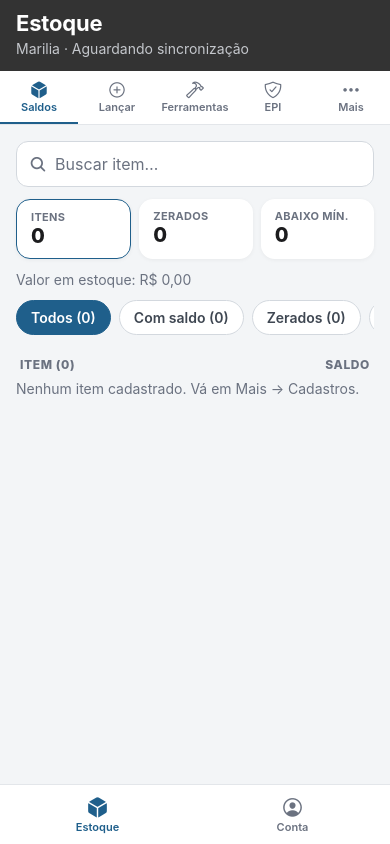
Test: Equipamentos › cancela uma movimentação com motivo e a peça volta
Click the element with test id "aba-equipamentos". click: (195, 98)
box: [156,71,234,124]
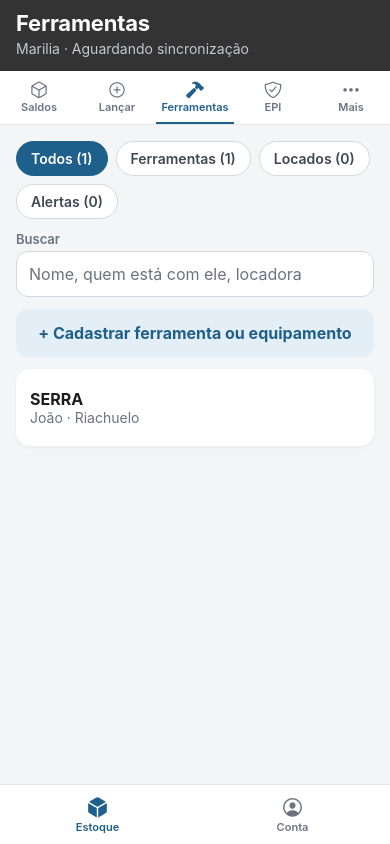
Click the element showing "SERRA João · Riachuelo". click: (195, 408)
box: [16,369,374,446]
(page scrolled)
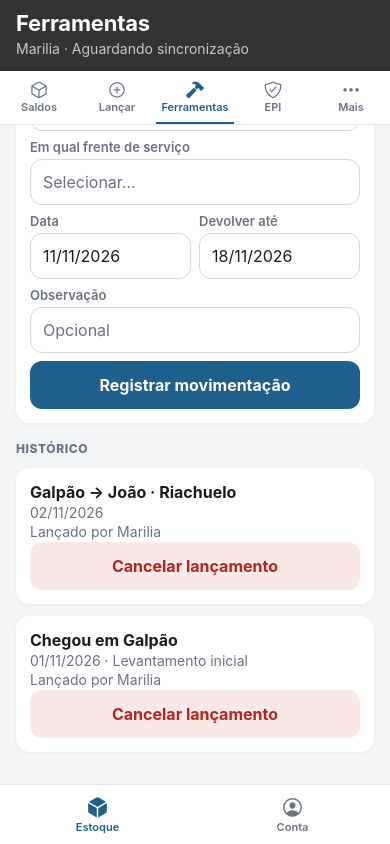
Click the element showing "Cancelar lançamento" below "02/11/2026". click: (195, 566)
box: [30,542,360,590]
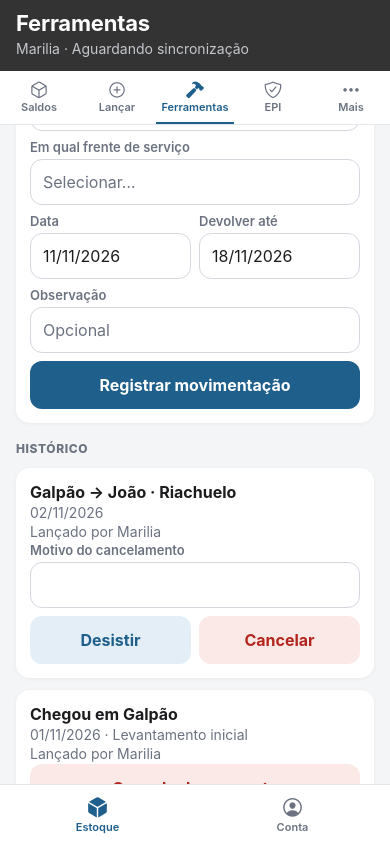
Type "lançada errada" into the field with test id "mov-motivo". click: (195, 585)
box: [30,562,360,608]
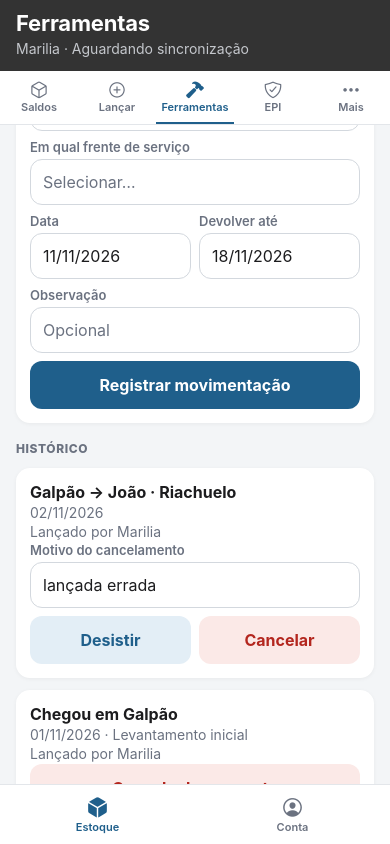
Click the element with test id "confirmar-cancelar-mov". click: (280, 640)
box: [199,616,360,664]
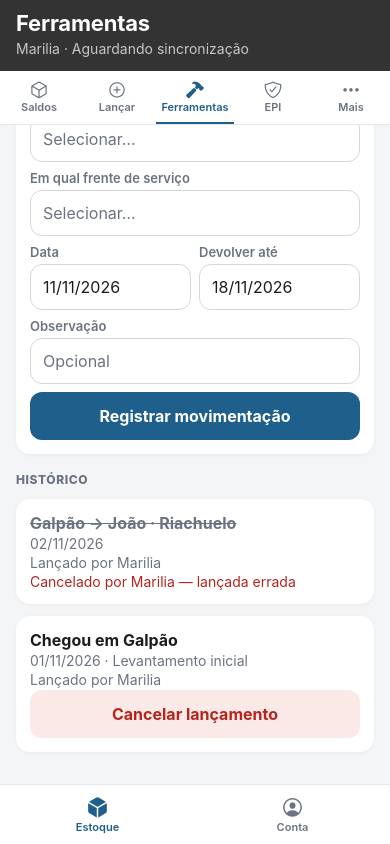
Expected: the text "Cancelado por Marilia — lançada errada" is shown, [30,573,296,590]
